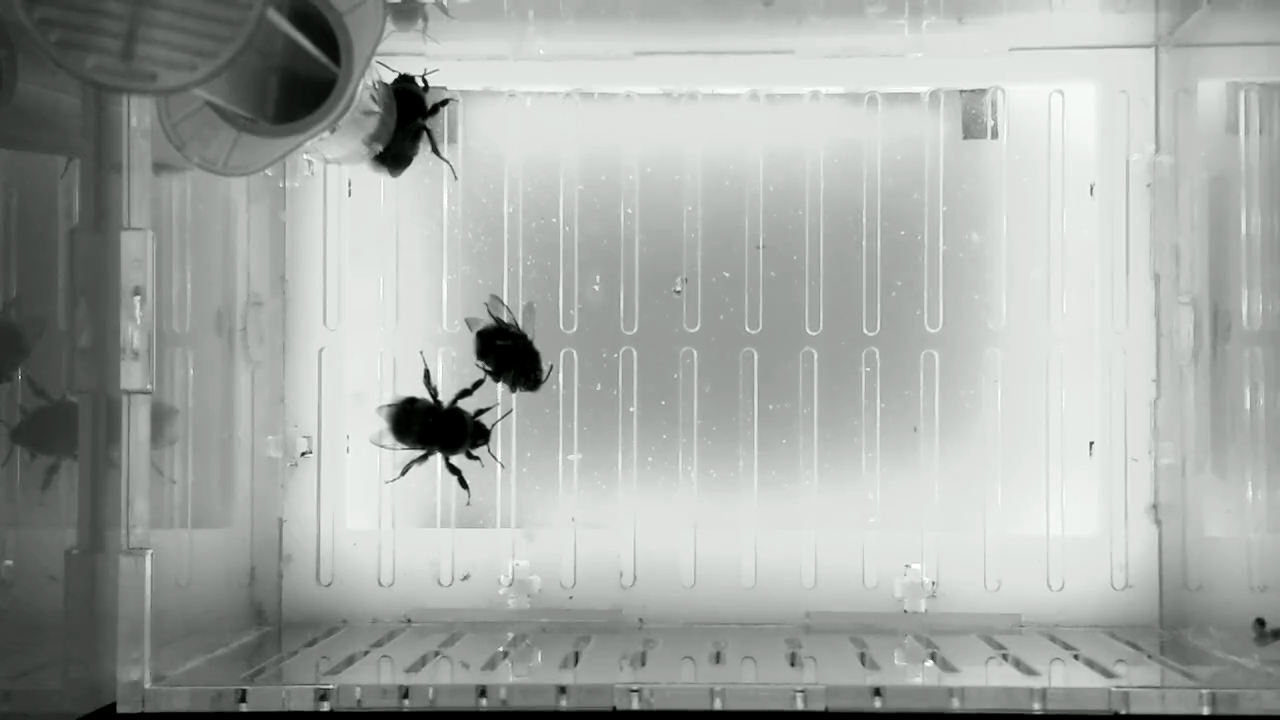bee_alive: (370, 348, 517, 508), (369, 59, 459, 184)
bee_dead: (463, 296, 557, 397)
feeder: (301, 55, 398, 169)
